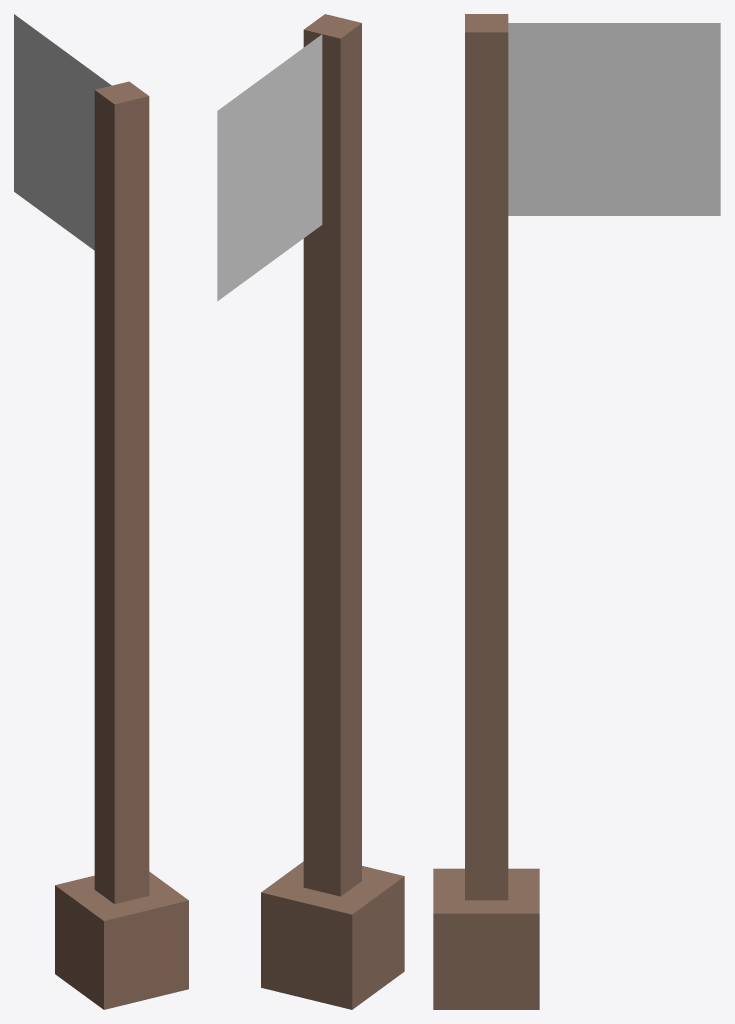
Rendered from Flag.fbx.
The picture shows the model from 3 angles, left to right: view 1: azimuth 30°, elevation 25°; view 2: azimuth 150°, elevation 25°; view 3: azimuth 270°, elevation 25°; orthographic projection. The views are drawn at different scales.
Visible parts, largest first — view 1: Post, Flag; view 2: Post, Flag; view 3: Post, Flag.
Part boxes in pixels (box(x1,y1,x2,y2)): Post: box(55, 81, 188, 1009); Flag: box(14, 14, 111, 250); Post: box(261, 14, 404, 1009); Flag: box(217, 34, 322, 301); Post: box(433, 14, 539, 1009); Flag: box(508, 23, 720, 215).
Size of the model in its own units: 0.25 by 2.5 by 0.675.
